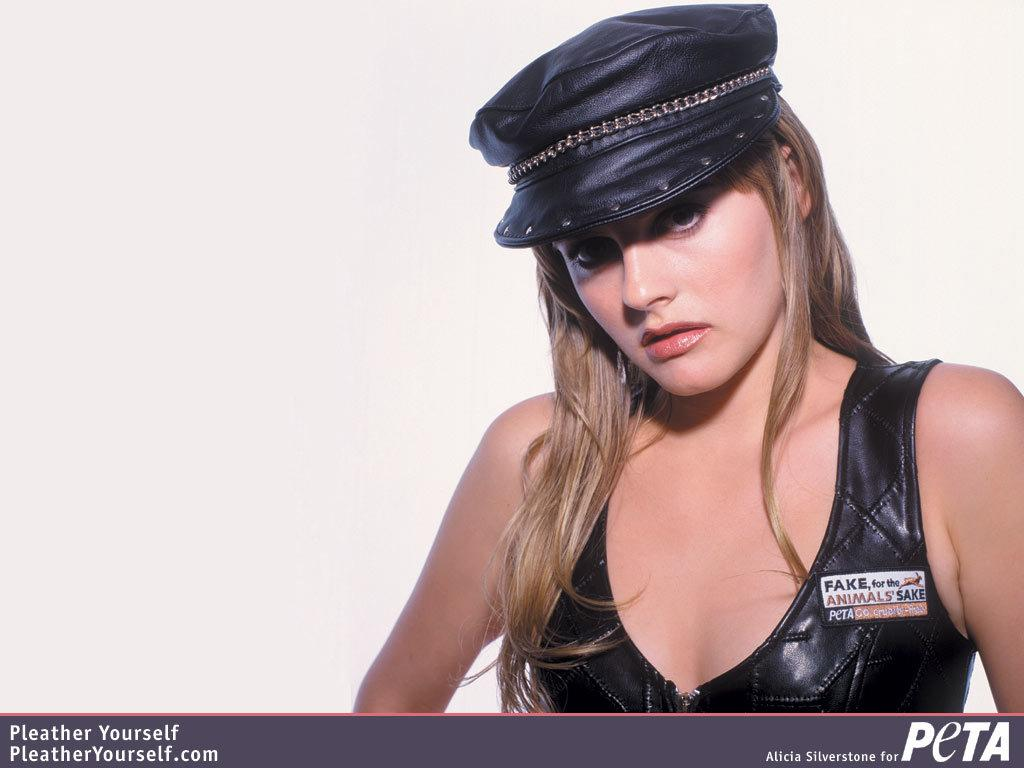Hat: (466, 0, 782, 251)
